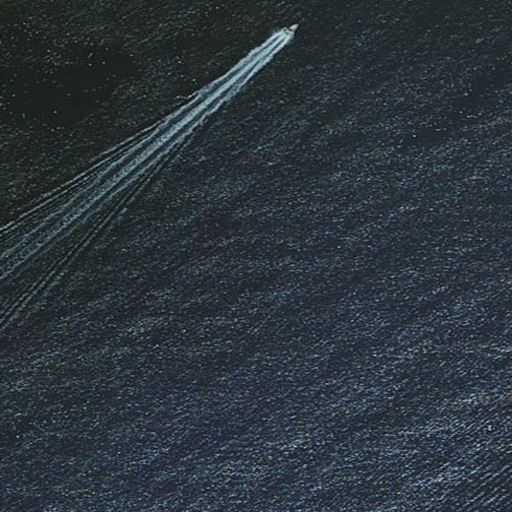ship: (287, 20, 300, 34)
